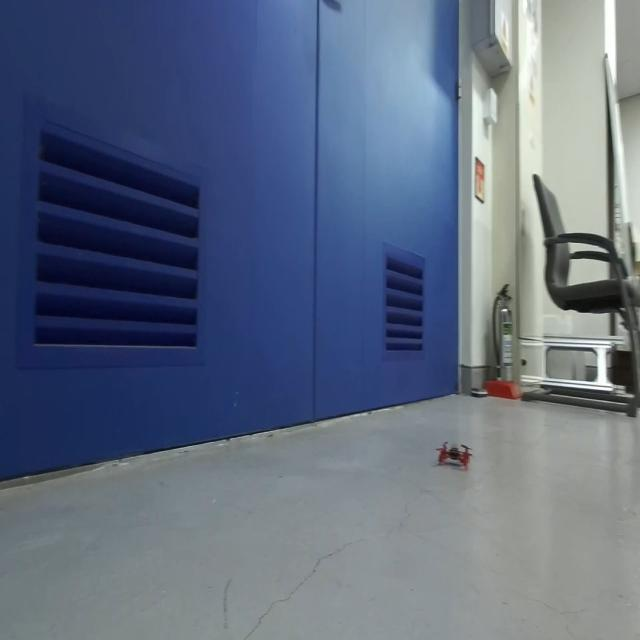crazyflie: (435, 434, 475, 473)
